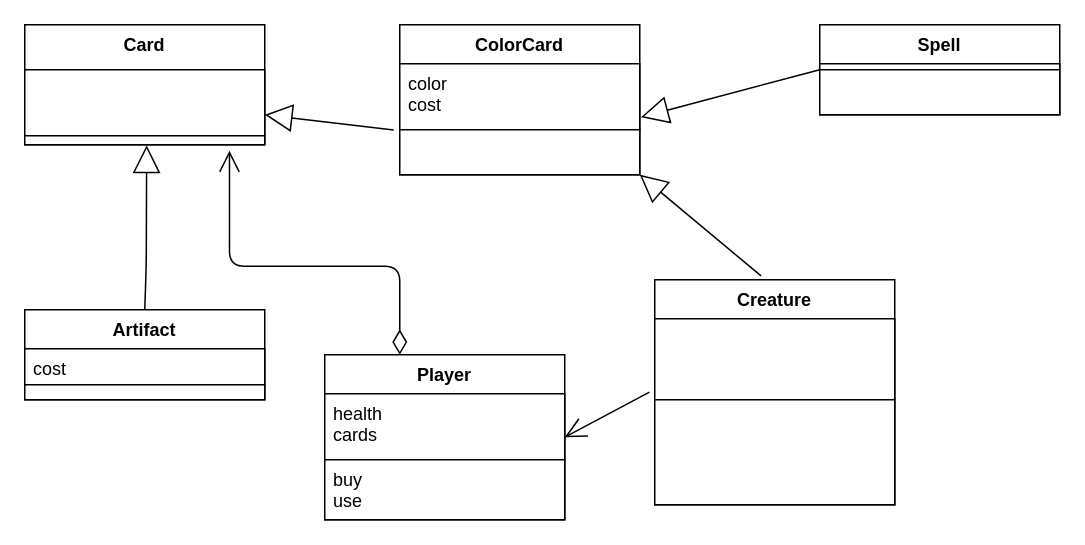
The diagram is 1085 pixels wide and 545 high, and some of its shapes have lost their labels. The centre of each missing label's shape, as x and y in pixels:
bind addPower addHealth clip: the point at 774,451
colorName: the point at 519,151
image description: the point at 144,102
power health target: the point at 774,358
quote: the point at 939,91
